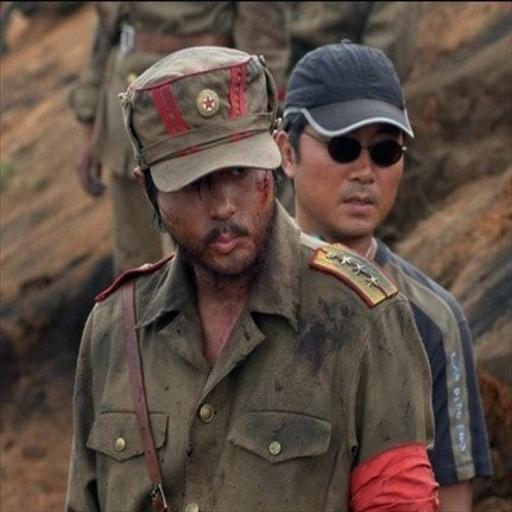north army: (106, 58, 372, 512)
